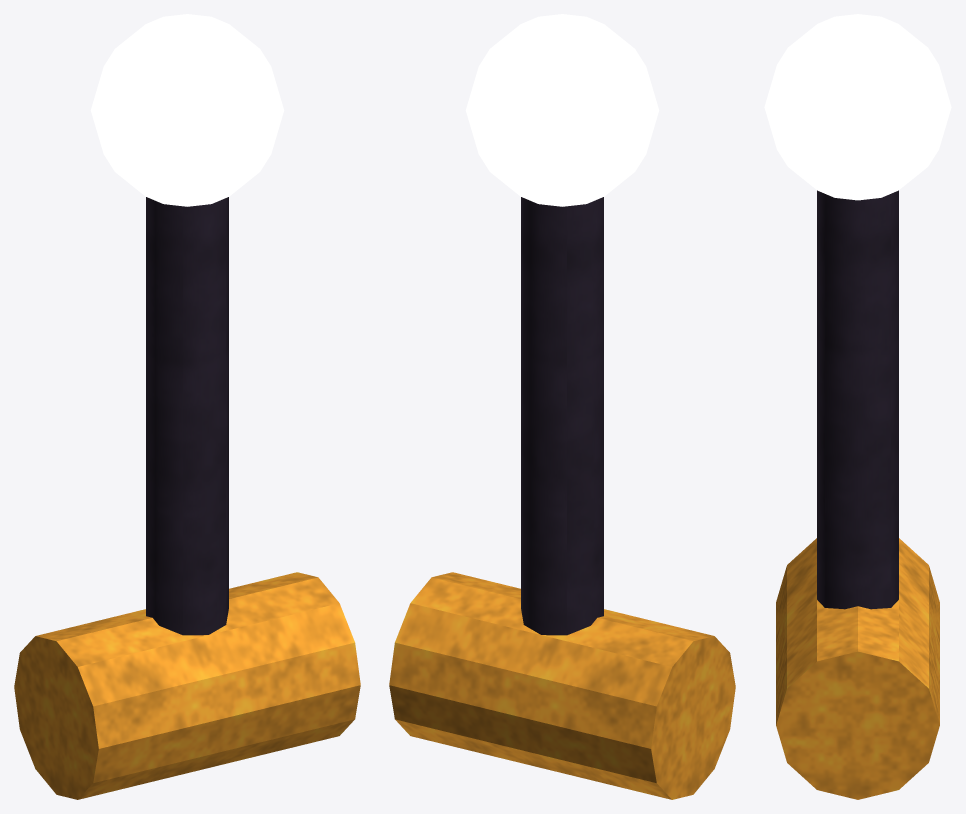
File: MO_ExitLeverArm.fbx
The picture shows the model from 3 angles, left to right: view 1: azimuth 30°, elevation 25°; view 2: azimuth 150°, elevation 25°; view 3: azimuth 270°, elevation 25°; orthographic projection. The views are drawn at different scales.
Parts seen in each view (by area): view 1: MO_ExitLeverArm; view 2: MO_ExitLeverArm; view 3: MO_ExitLeverArm.
Boxes of the visible parts, <box> form: MO_ExitLeverArm: <box>14,14,360,799</box>; MO_ExitLeverArm: <box>389,14,735,799</box>; MO_ExitLeverArm: <box>764,14,951,799</box>.
Bounding box in the file's own units: 0.5 × 1.35 × 0.32.
